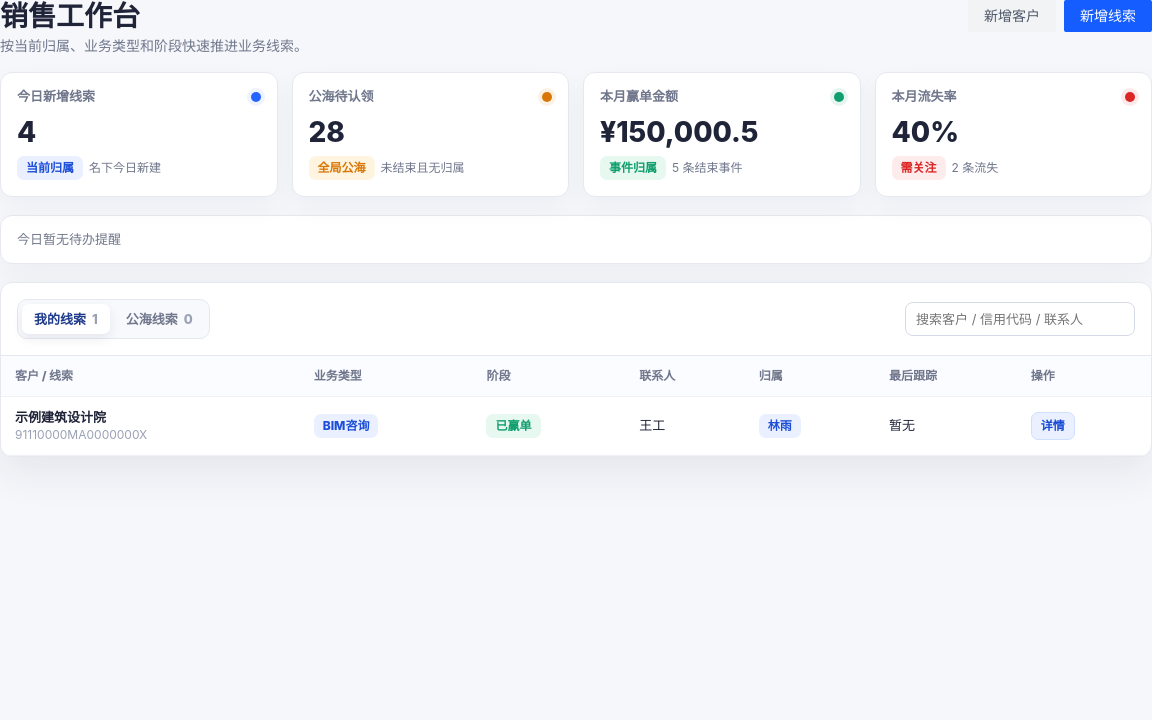
Test: 右侧详情面板 › 打开已结束线索不呈现写入口（系统日志只读时间线仍展示）
Click the button with class "lead-link".
click(81, 426)  # box [15,410,147,442]
(page scrolled)
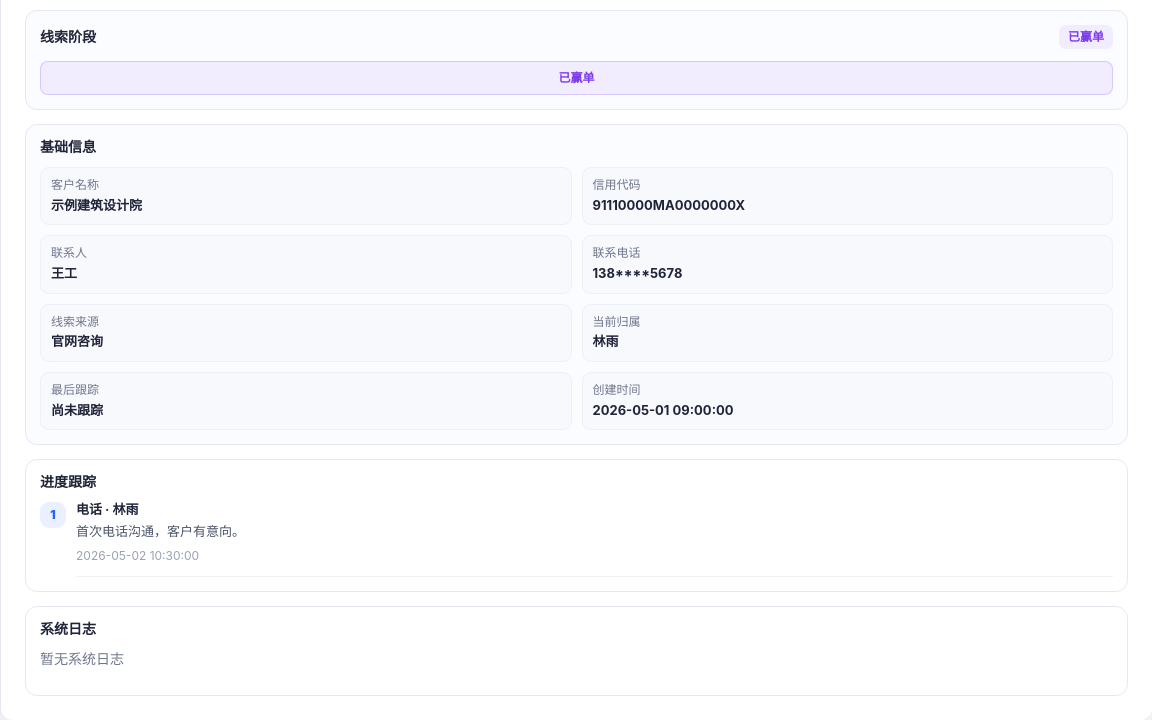
Check: the element with class "detail-systemlog" is shown, box [25,606,1128,696]
